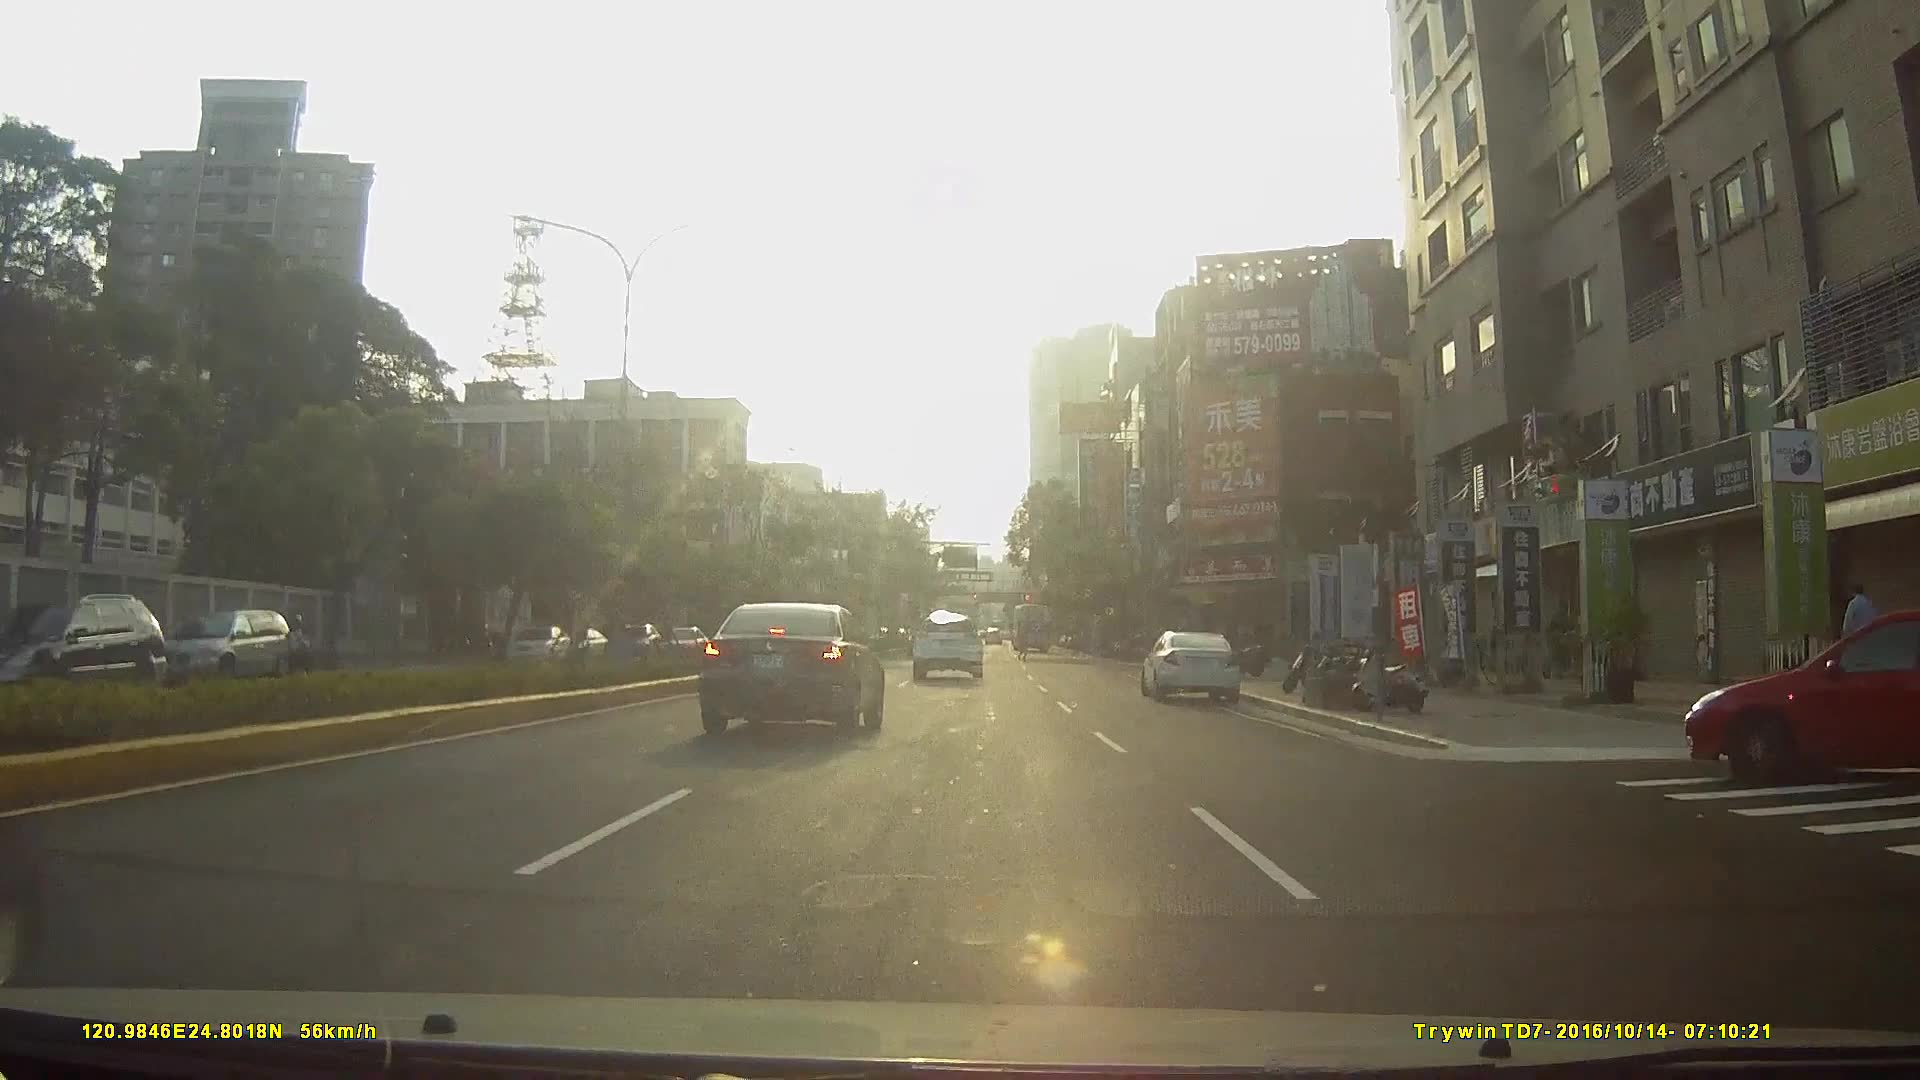pedestrian: (1839, 581, 1885, 691)
rider: (273, 612, 318, 696)
vehicle: (1678, 598, 1920, 789), (700, 602, 889, 740), (0, 592, 139, 699), (162, 607, 305, 692), (1141, 627, 1246, 704), (909, 610, 984, 680), (499, 623, 570, 665), (1007, 602, 1054, 653), (657, 625, 710, 665)
